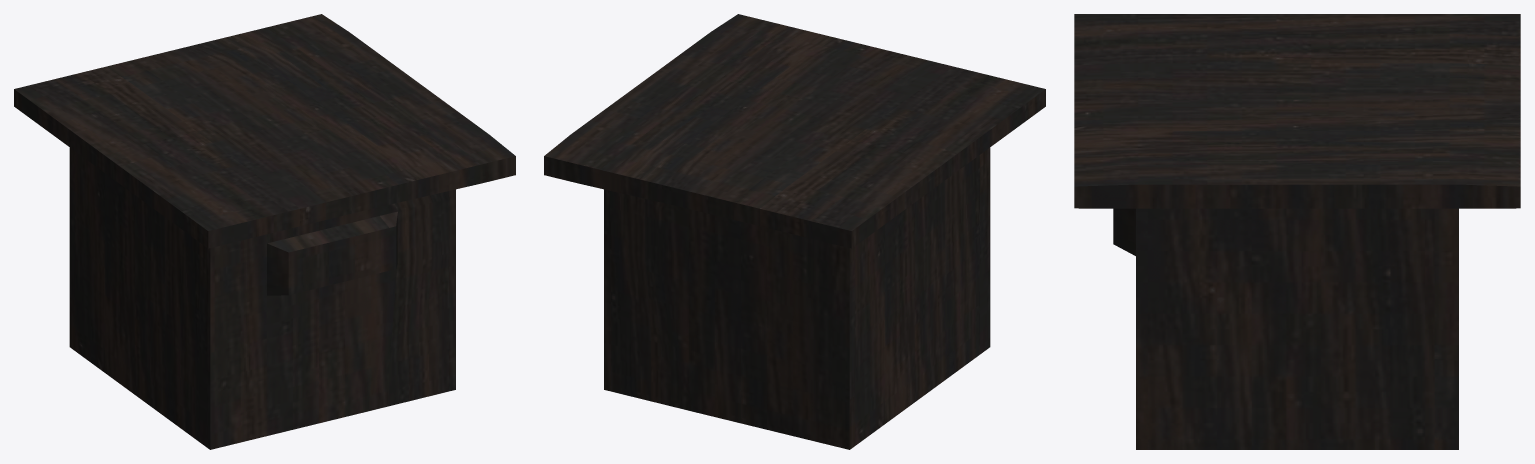
3 renders of one model, left to right at view 1: azimuth 30°, elevation 25°; view 2: azimuth 150°, elevation 25°; view 3: azimuth 270°, elevation 25°, orthographic. The views are drawn at different scales.
Visible parts, largest first — view 1: pCube1; view 2: pCube1; view 3: pCube1.
Part boxes in pixels (left/top/right/bottom): pCube1: left=14, top=14, right=515, bottom=449; pCube1: left=544, top=14, right=1045, bottom=449; pCube1: left=1074, top=14, right=1520, bottom=449.
Size of the model in its own units: 0.9666 by 0.7418 by 1.06.
1 material, 1 textured.
